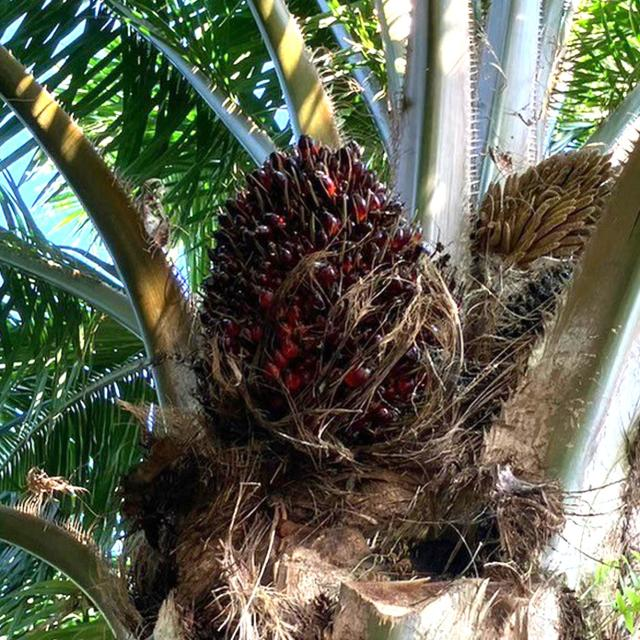ripe: (175, 126, 458, 457)
